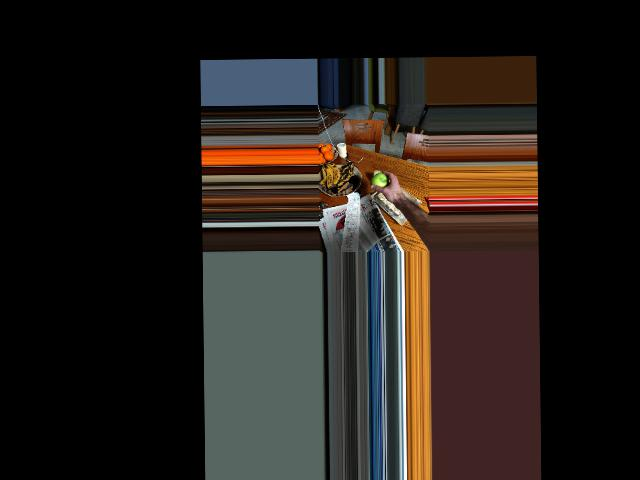apple: (369, 170, 393, 194)
